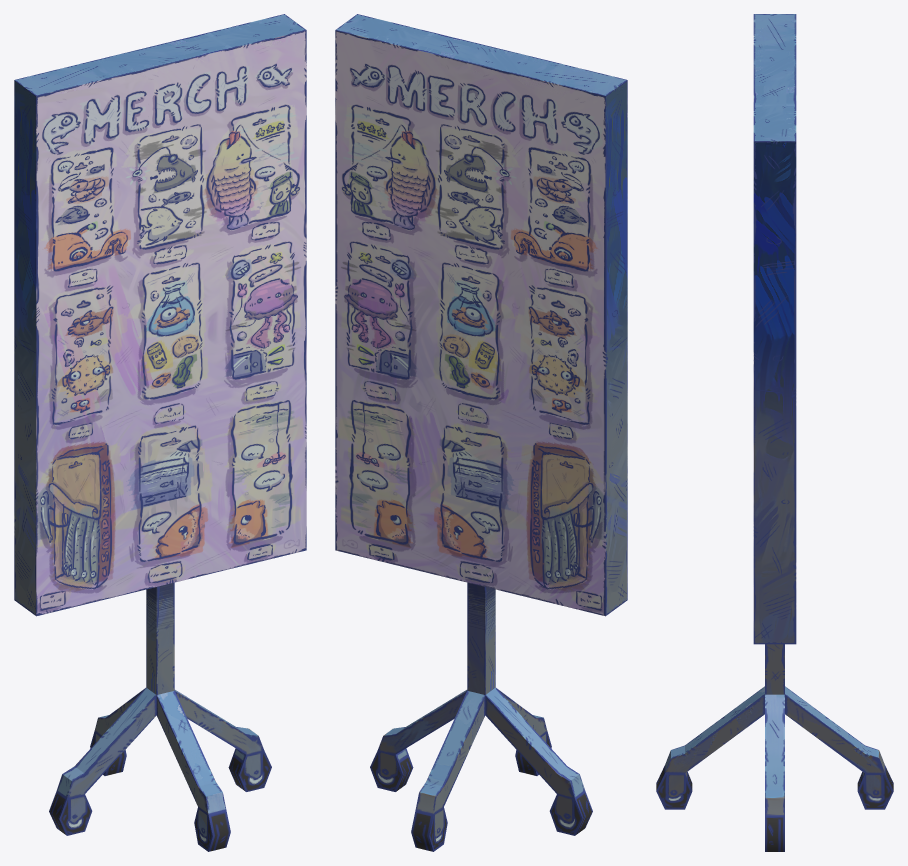
File: Merch_DIsplay.fbx
3 views of the same model, side by side, from view 1: azimuth 30°, elevation 25°; view 2: azimuth 150°, elevation 25°; view 3: azimuth 270°, elevation 25° (orthographic). The views are drawn at different scales.
Parts seen in each view (by area): view 1: Merch_DIsplay; view 2: Merch_DIsplay; view 3: Merch_DIsplay.
Boxes of the visible parts, left/top/right/bottom form: Merch_DIsplay: left=14, top=14, right=306, bottom=851; Merch_DIsplay: left=335, top=14, right=627, bottom=851; Merch_DIsplay: left=656, top=14, right=893, bottom=851.
Bounding box in the file's own units: 1.51 × 4.02 × 1.19.
Materials: 1 (1 with a texture image).
